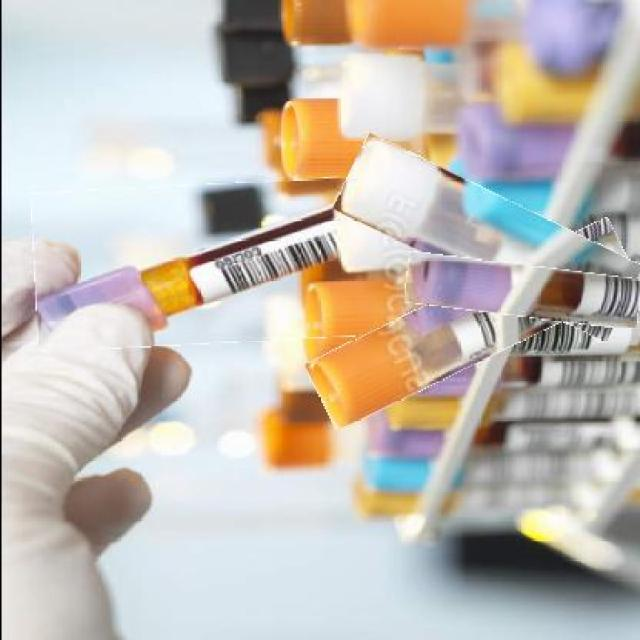Experimental-tube: (32, 178, 438, 347), (302, 252, 638, 397), (332, 163, 638, 312), (404, 258, 639, 322)
